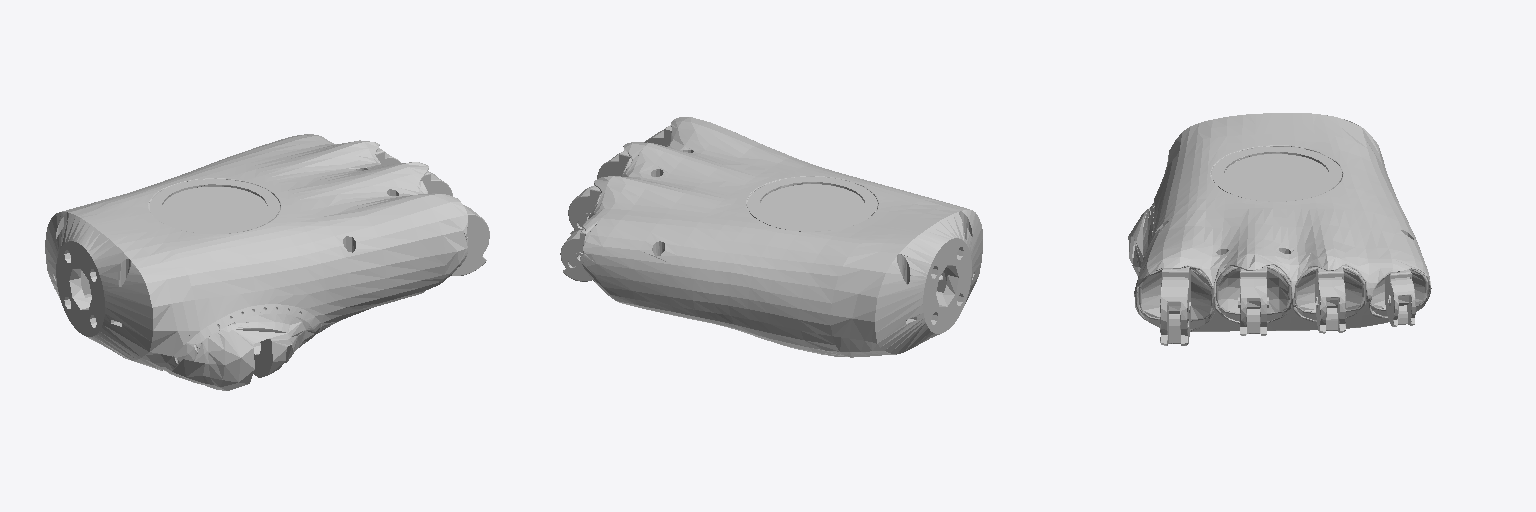
Rendered from armar-7_palm_left.obj.
3 views of the same model, side by side, from view 1: azimuth 30°, elevation 25°; view 2: azimuth 150°, elevation 25°; view 3: azimuth 270°, elevation 25° (orthographic).
Visible parts, largest first — view 1: prosthetic_hand_male_10-1-30; view 2: prosthetic_hand_male_10-1-30; view 3: prosthetic_hand_male_10-1-30.
Boxes of the visible parts, box(x1,y1,x2,y2) form: prosthetic_hand_male_10-1-30: box(45, 134, 489, 390); prosthetic_hand_male_10-1-30: box(560, 117, 982, 357); prosthetic_hand_male_10-1-30: box(1128, 113, 1431, 345).
Bounding box in the file's own units: 0.1254 × 0.0461 × 0.0928.